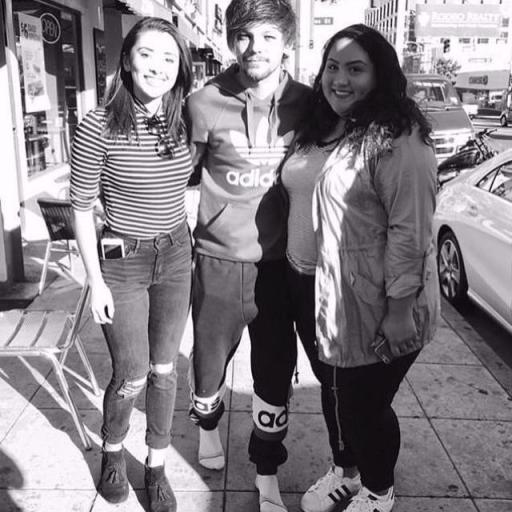Adidas: (224, 111, 292, 189)
